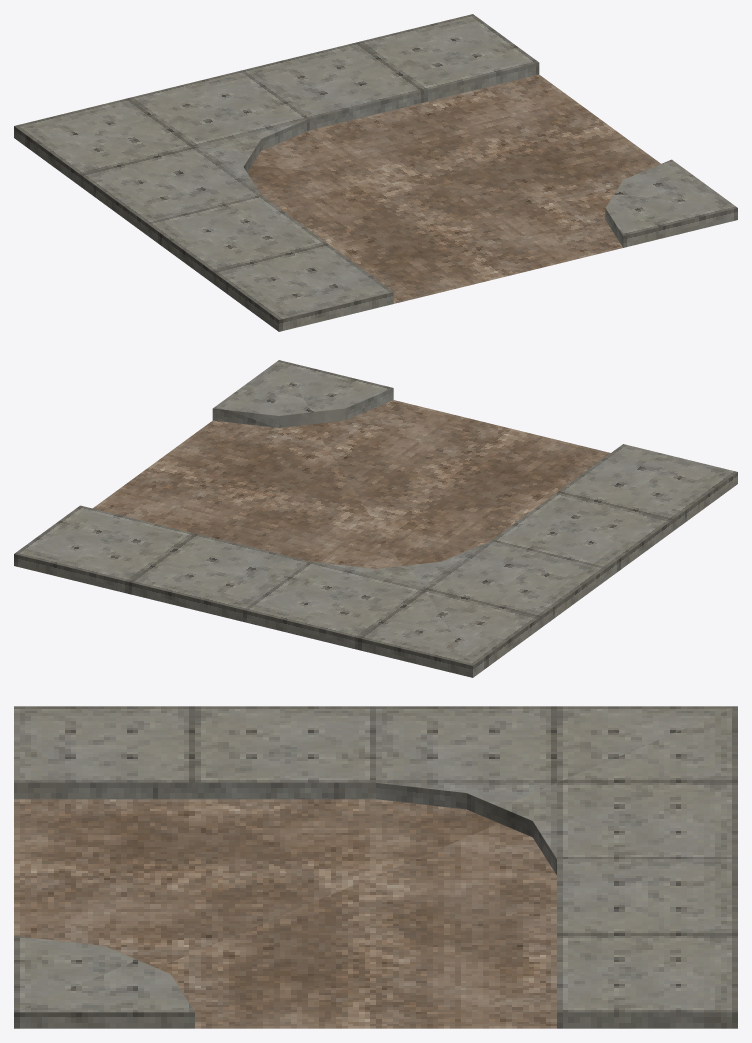
Rendered from roadDirt_corner.fbx.
3 views of the same model, one above another, from view 1: azimuth 30°, elevation 25°; view 2: azimuth 150°, elevation 25°; view 3: azimuth 270°, elevation 25° (orthographic). The views are drawn at different scales.
Parts seen in each view (by area): view 1: roadDirt_corner; view 2: roadDirt_corner; view 3: roadDirt_corner.
Boxes of the visible parts, x1,y1,x2,y2 form: roadDirt_corner: [14, 14, 737, 331]; roadDirt_corner: [14, 360, 737, 677]; roadDirt_corner: [14, 706, 737, 1028].
Size of the model in its own units: 20 by 0.5 by 20.
